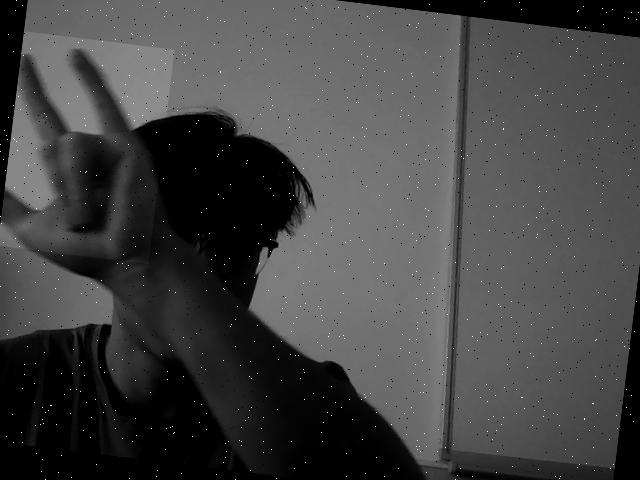I_Love_You: (0, 31, 174, 264)
